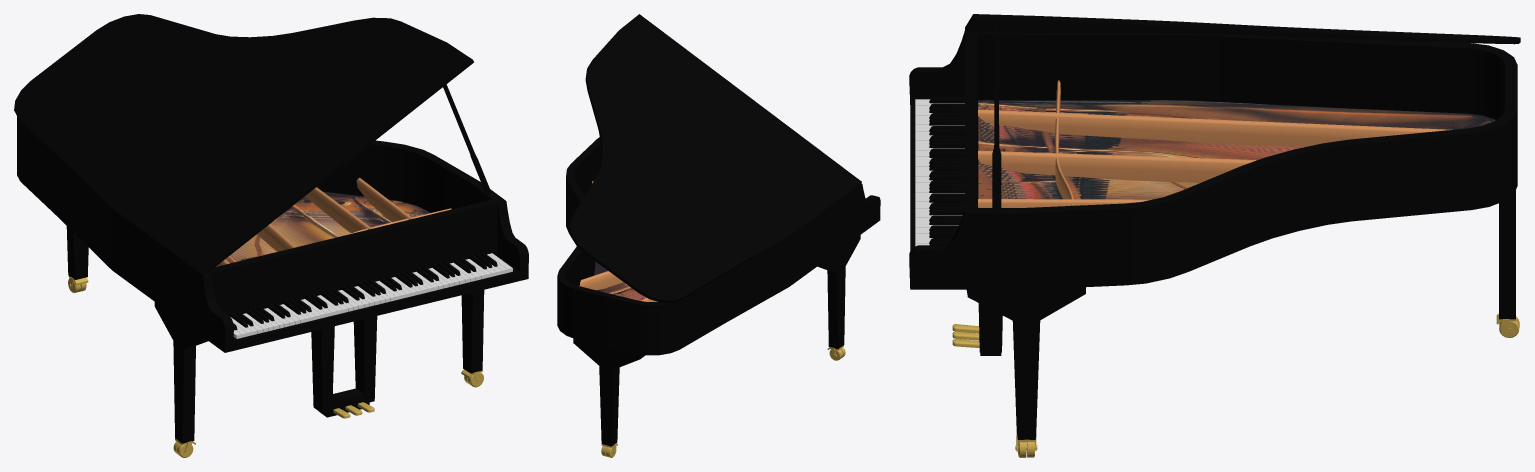
Rendered from piano.glb.
The picture shows the model from 3 angles, left to right: view 1: azimuth 30°, elevation 25°; view 2: azimuth 150°, elevation 25°; view 3: azimuth 270°, elevation 25°; orthographic projection. The views are drawn at different scales.
Visible parts, largest first — view 1: top, piano, keys_white, stand.002, inner, keys_black02, stand.003, keys_black01, stand.001, stand; view 2: top, piano, stand.001, stand.002, inner; view 3: piano, inner, top, stand.003, keys_black02, keys_white, stand.001, keys_black01, stand.
Boxes of the visible parts, box(x1,y1,x2,y2) form: top: box(14, 14, 473, 274); piano: box(17, 116, 528, 418); keys_white: box(230, 253, 512, 338); stand.002: box(154, 302, 208, 457); inner: box(216, 178, 451, 266); keys_black02: box(233, 252, 497, 330); stand.003: box(461, 290, 484, 387); keys_black01: box(231, 257, 476, 327); stand.001: box(66, 226, 88, 292); stand: box(443, 84, 491, 194); top: box(568, 14, 861, 302); piano: box(557, 137, 880, 355); stand.001: box(573, 338, 645, 457); stand.002: box(817, 235, 860, 360); inner: box(579, 181, 657, 301); piano: box(909, 31, 1517, 355); inner: box(978, 80, 1452, 207); top: box(965, 14, 1520, 44); stand.003: box(966, 287, 1085, 457); keys_black02: box(929, 97, 964, 237); keys_white: box(915, 99, 964, 246); stand.001: box(1496, 190, 1519, 337); keys_black01: box(929, 103, 964, 245); stand: box(992, 23, 1001, 211).
Size of the model in its own units: 2.01 by 2.18 by 2.82.
6 materials, 1 textured.
